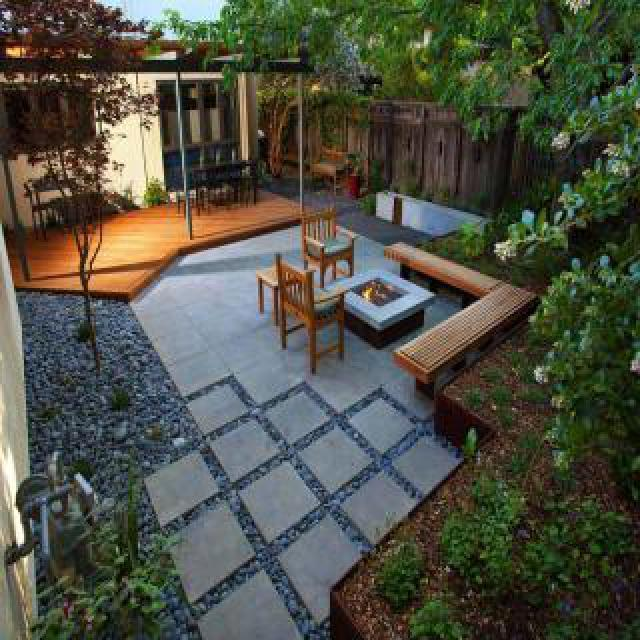Fire: (358, 274, 398, 308)
